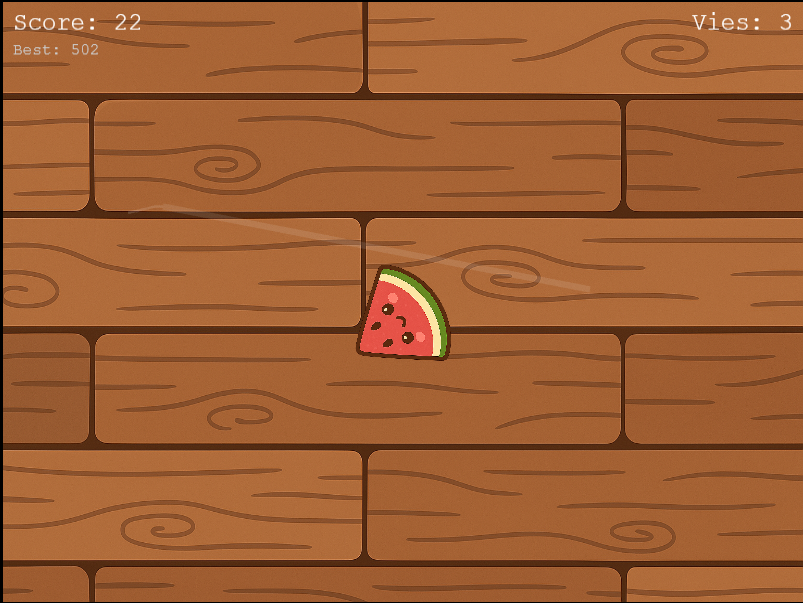fruit: (355, 262, 456, 361)
